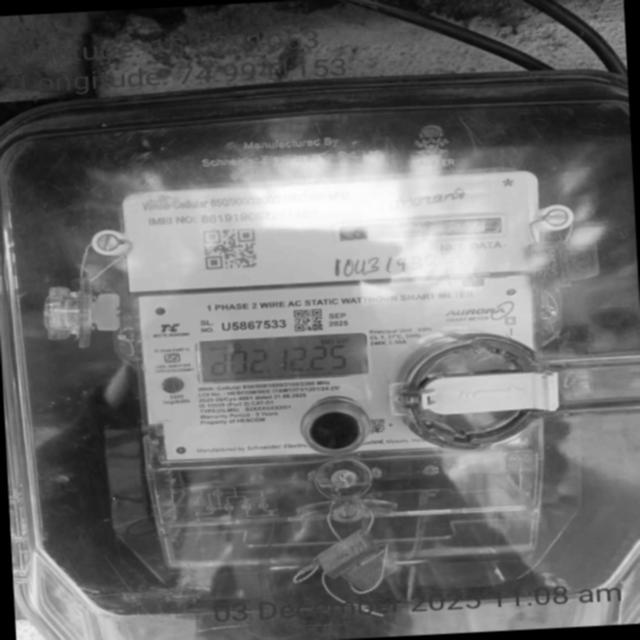meter: (122, 170, 549, 465)
